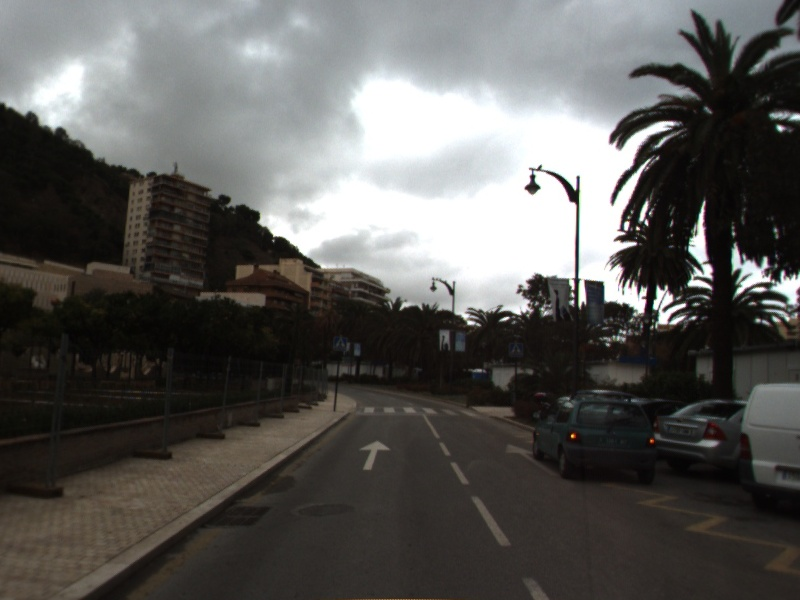STRAIGHT: (504, 442, 562, 478), (358, 438, 392, 472)
